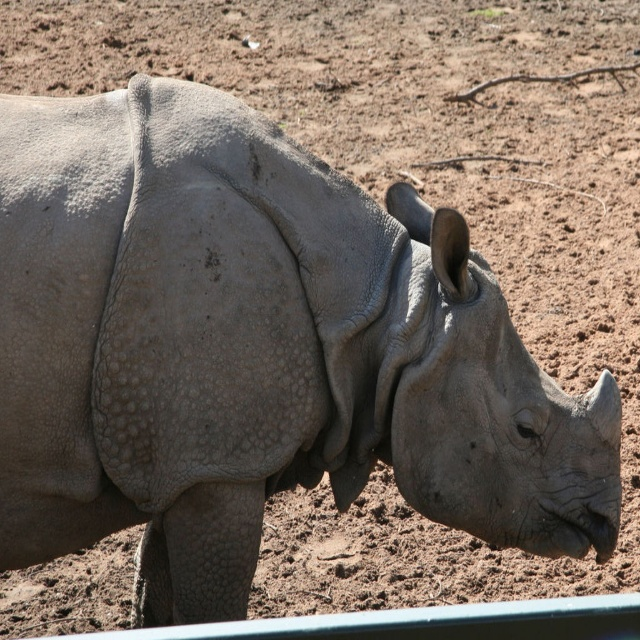Rhinoceros: (0, 59, 630, 626)
